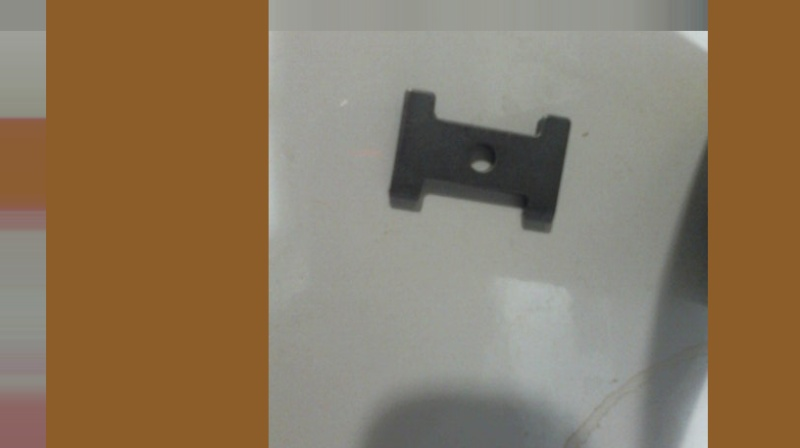O002: (386, 88, 574, 222)
